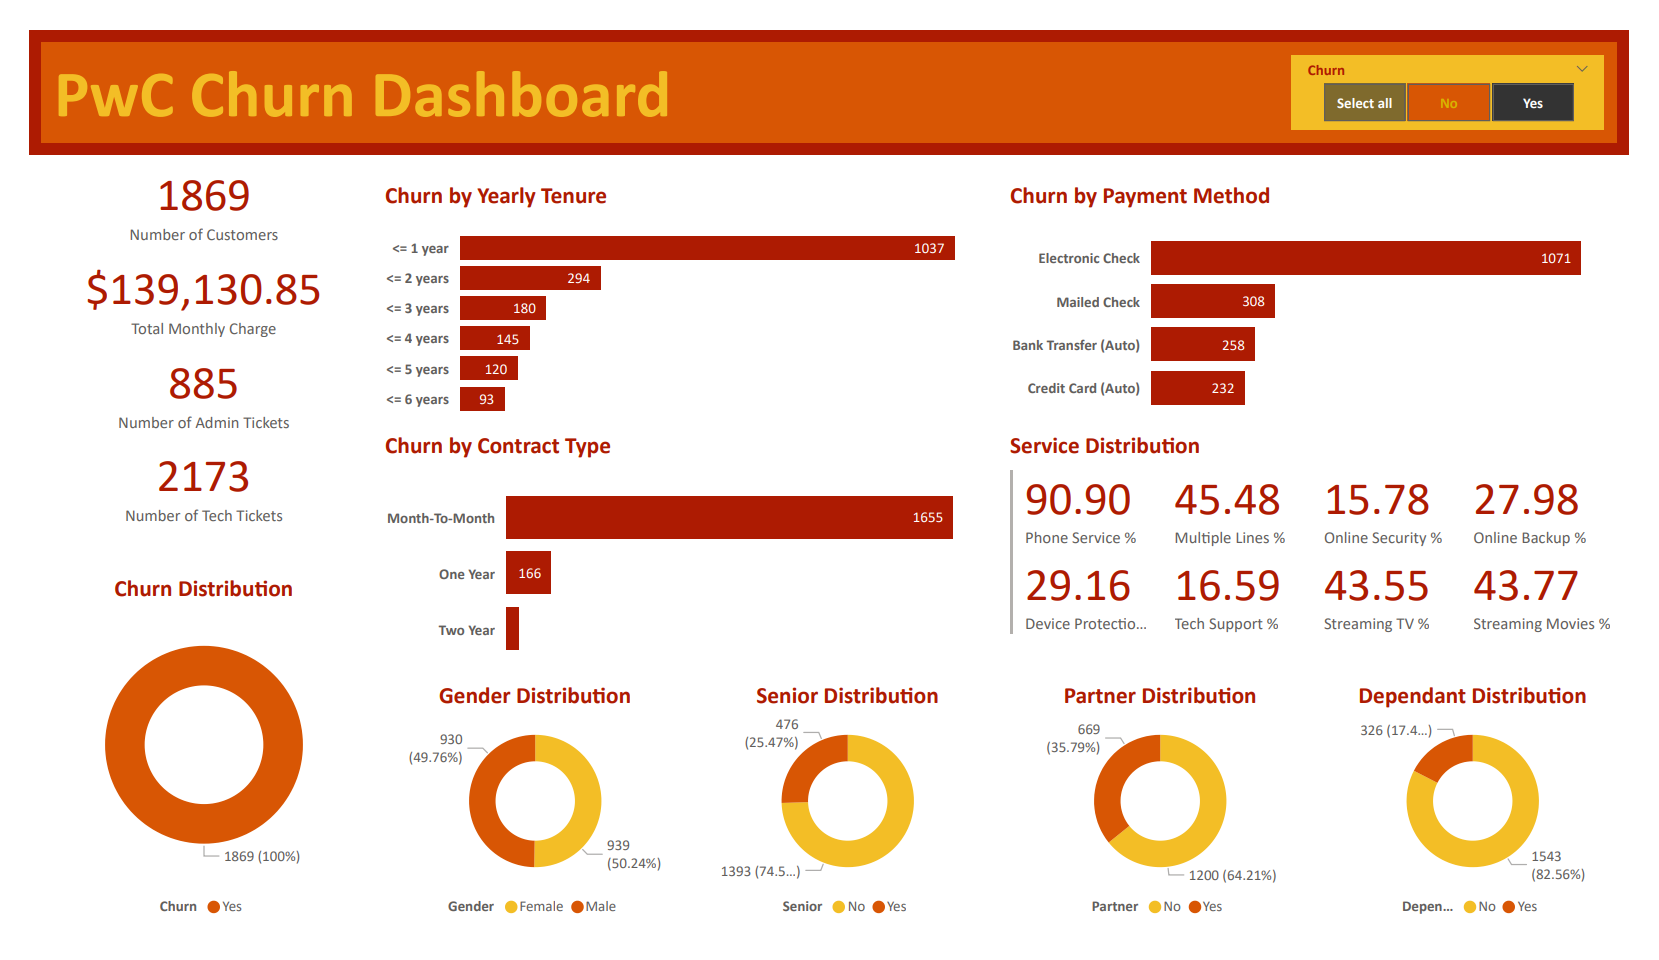

Layout of this report page (visuals, bound fields, positions):
{"tool":"powerbi","page":{"name":"Page 1","canvas":[1280,720],"ordinal":0},"visuals":[{"type":"card","fields":{"Values":["CountNonNull(Clean.customerID)"]},"box":[0,100,280,75.5],"z":0},{"type":"shape","box":[0,0,1280,100.2],"z":1000},{"type":"shape","box":[10,10,1260,80],"z":2000},{"type":"donutChart","title":"Churn Distribution","fields":{"Y":["CountNonNull(Clean.Churn)"],"Series":["Clean.Churn"]},"box":[0,435,280,285],"z":3000},{"type":"card","fields":{"Values":["Sum(Clean.MonthlyCharges)"]},"box":[0,175,280,75.5],"z":4000},{"type":"card","fields":{"Values":["Sum(Clean.numAdminTickets)"]},"box":[0,250,280,75.5],"z":5000},{"type":"card","fields":{"Values":["Sum(Clean.numTechTickets)"]},"box":[0,325,280,75.5],"z":6000},{"type":"barChart","title":"Churn by Yearly Tenure","fields":{"Category":["Clean.Yearly Tenure"],"Y":["CountNonNull(Clean.Yearly Tenure)"]},"box":[280,120,500,200],"z":7000},{"type":"donutChart","title":"Gender Distribution","fields":{"Y":["CountNonNull(Clean.gender)"],"Series":["Clean.gender"]},"box":[280,520,250,200],"z":8000},{"type":"barChart","title":"Churn by Payment Method","fields":{"Category":["Clean.PaymentMethod"],"Y":["CountNonNull(Clean.PaymentMethod)"]},"box":[780,120,500.3,200],"z":9000},{"type":"barChart","title":"Churn by Contract Type","fields":{"Category":["Clean.Contract"],"Y":["CountNonNull(Clean.Contract)"]},"box":[280,320,500,201],"z":10000},{"type":"donutChart","title":"Dependant Distribution","fields":{"Series":["Clean.Dependents"],"Y":["CountNonNull(Clean.Dependents)"]},"box":[1030,520.3,250,200],"z":11000},{"type":"donutChart","title":"Partner Distribution","fields":{"Y":["CountNonNull(Clean.Partner)"],"Series":["Clean.Partner"]},"box":[780,520,250,200],"z":12000},{"type":"donutChart","title":"Senior Distribution","fields":{"Y":["CountNonNull(Clean.SeniorCitizen)"],"Series":["Clean.SeniorCitizen"]},"box":[530.2,520,250,200],"z":13000},{"type":"slicer","fields":{"Values":["Clean.Churn"]},"box":[1010,20,250,60],"z":14000},{"type":"multiRowCard","title":"Service Distribution","fields":{"Values":["Clean.Phone Service %","Clean.Multiple Lines %","Clean.Online Security %","Clean.Online Backup %","Clean.Device Protection %","Clean.Tech Support %","Clean.Streaming TV %","Clean.Streaming Movies %"]},"box":[780,320,500,200],"z":15000}]}

Visuals, with their boxes in screenshot pixels (x1, y1, x2, y2), scaled from the page's 1280x720 canvas onto the 1659x960 screenshot:
card - CountNonNull(Clean.customerID): l=0, t=133, r=363, b=234
shape: l=0, t=0, r=1658, b=134
shape: l=13, t=13, r=1646, b=120
"Churn Distribution" donutChart: l=0, t=580, r=363, b=959
card - Sum(Clean.MonthlyCharges): l=0, t=233, r=363, b=334
card - Sum(Clean.numAdminTickets): l=0, t=333, r=363, b=434
card - Sum(Clean.numTechTickets): l=0, t=433, r=363, b=534
"Churn by Yearly Tenure" barChart: l=363, t=160, r=1011, b=427
"Gender Distribution" donutChart: l=363, t=693, r=687, b=959
"Churn by Payment Method" barChart: l=1011, t=160, r=1658, b=427
"Churn by Contract Type" barChart: l=363, t=427, r=1011, b=695
"Dependant Distribution" donutChart: l=1335, t=694, r=1658, b=959
"Partner Distribution" donutChart: l=1011, t=693, r=1335, b=959
"Senior Distribution" donutChart: l=687, t=693, r=1011, b=959
slicer - Clean.Churn: l=1309, t=27, r=1633, b=107
"Service Distribution" multiRowCard: l=1011, t=427, r=1658, b=693
